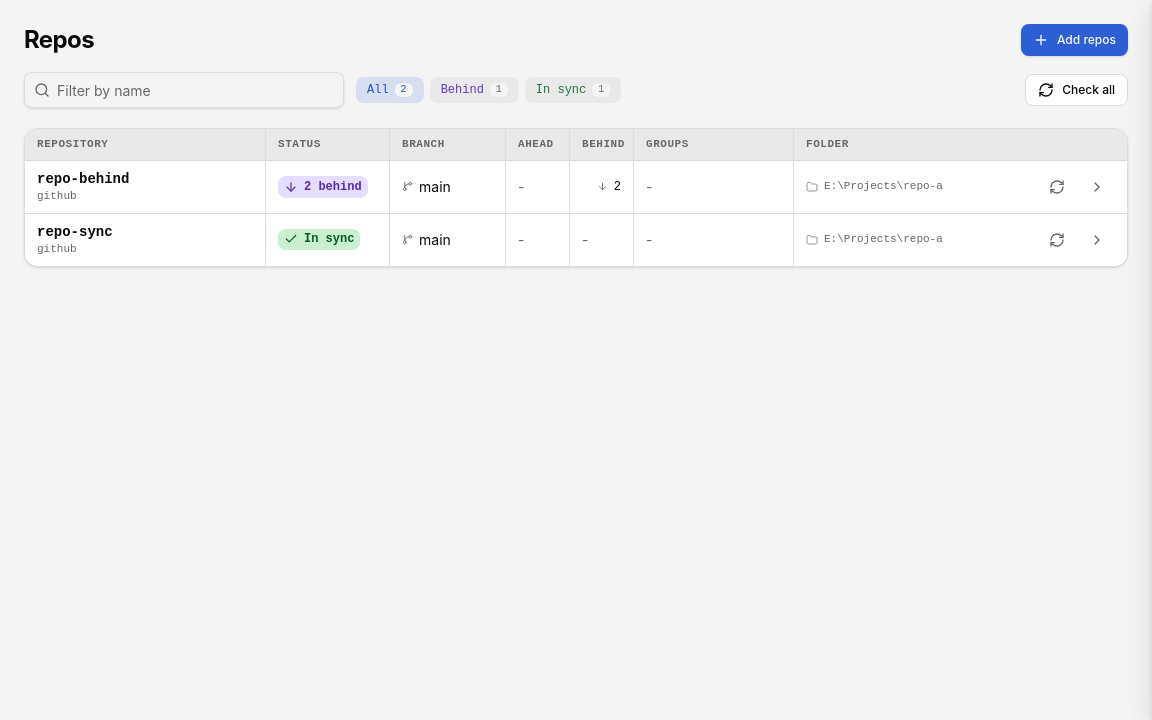
Test: ReposScreen table › clicking a status filter chip narrows the visible rows
The width and height of the screenshot is (1152, 720).
Expected: the text "repo-behind" is shown, [37,169,129,189]
Click the button "Behind 1" at (474,90), box [430,77,519,103]
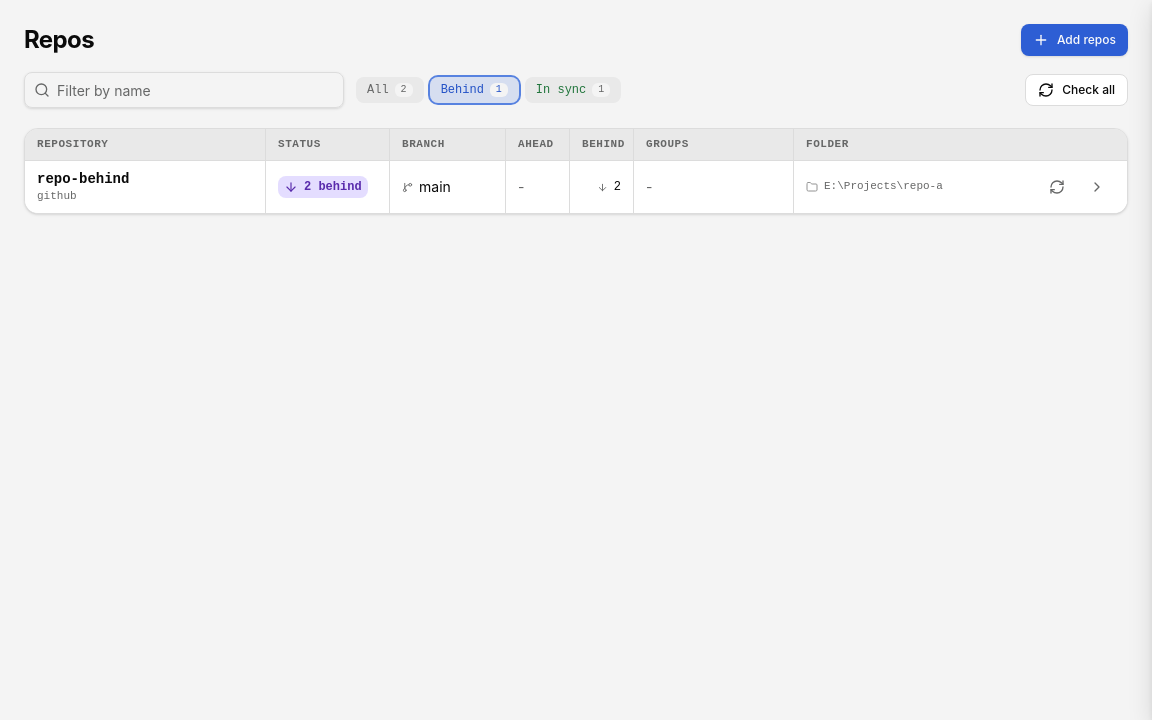
Expected: the text "repo-behind" is shown, [37,169,129,189]
Result: the text "repo-sync" is gone
